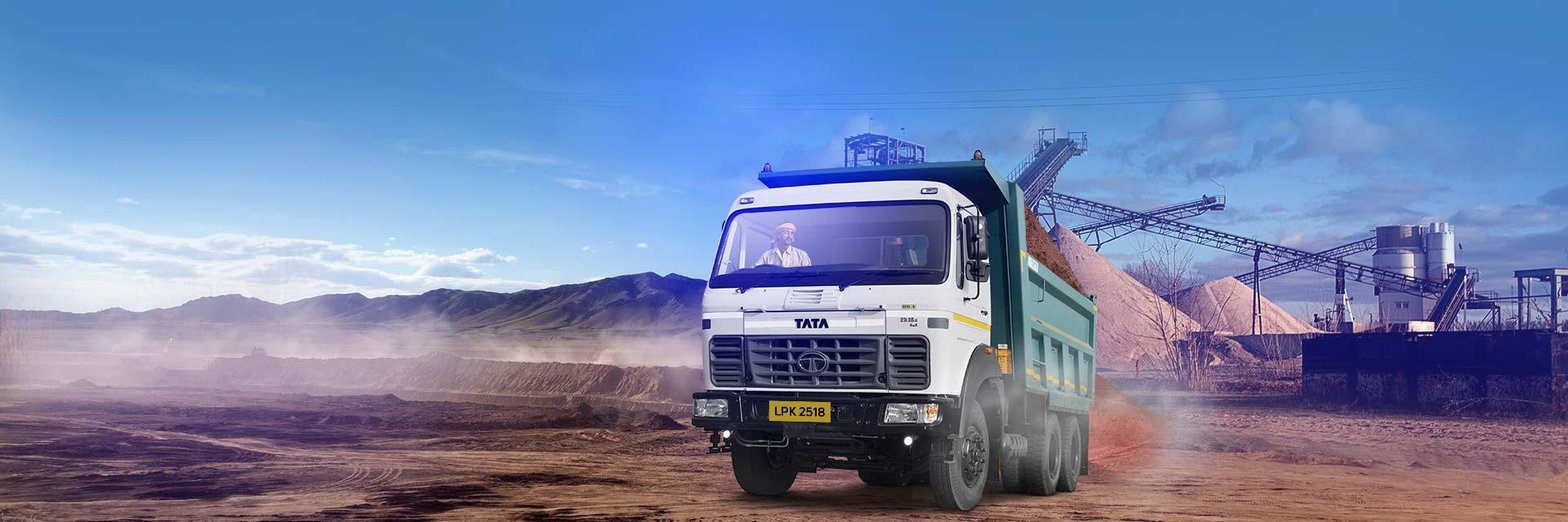truck: (704, 129, 1122, 521)
